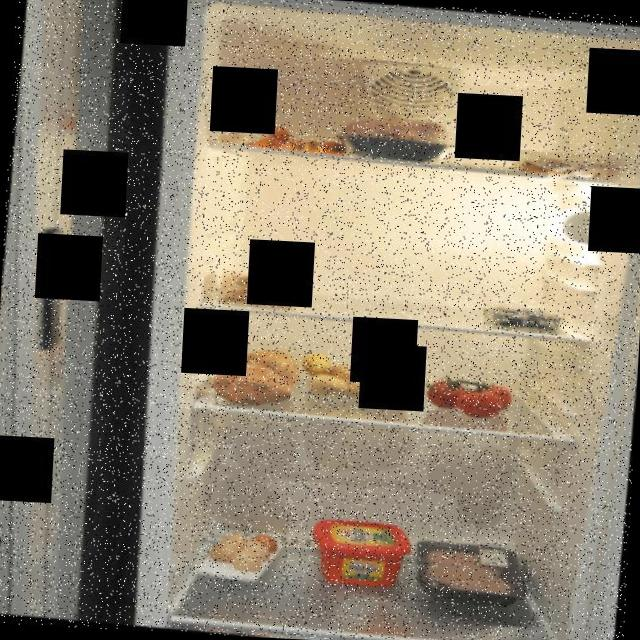Carne pollo: (411, 540, 526, 616), (338, 108, 456, 168)
Gambas/Langostinos: (512, 151, 615, 181)
Huevos: (208, 523, 281, 576)
Mantequilla: (308, 516, 414, 592)
Patata: (294, 352, 413, 404)
Tomate: (418, 370, 514, 423)
Zanahoria: (242, 120, 348, 158)
